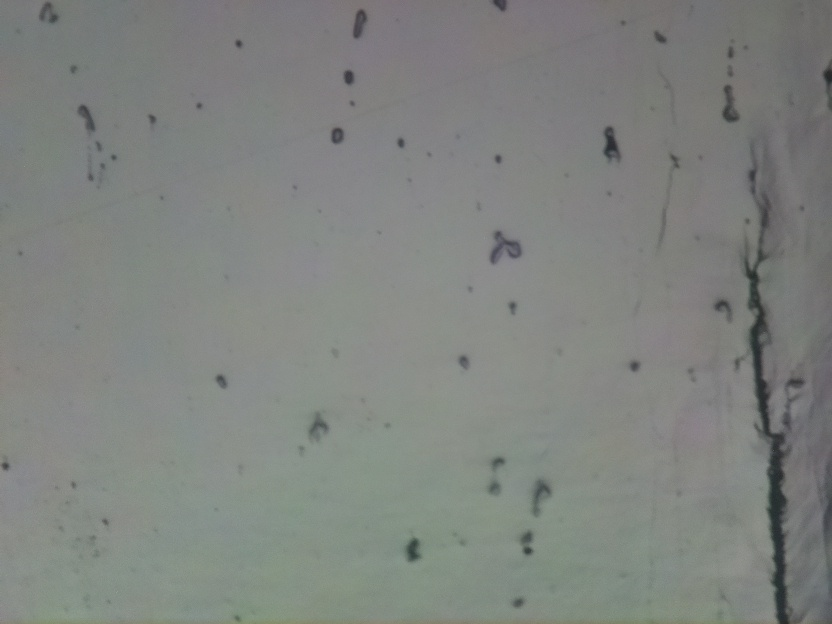crack: (735, 148, 799, 624)
